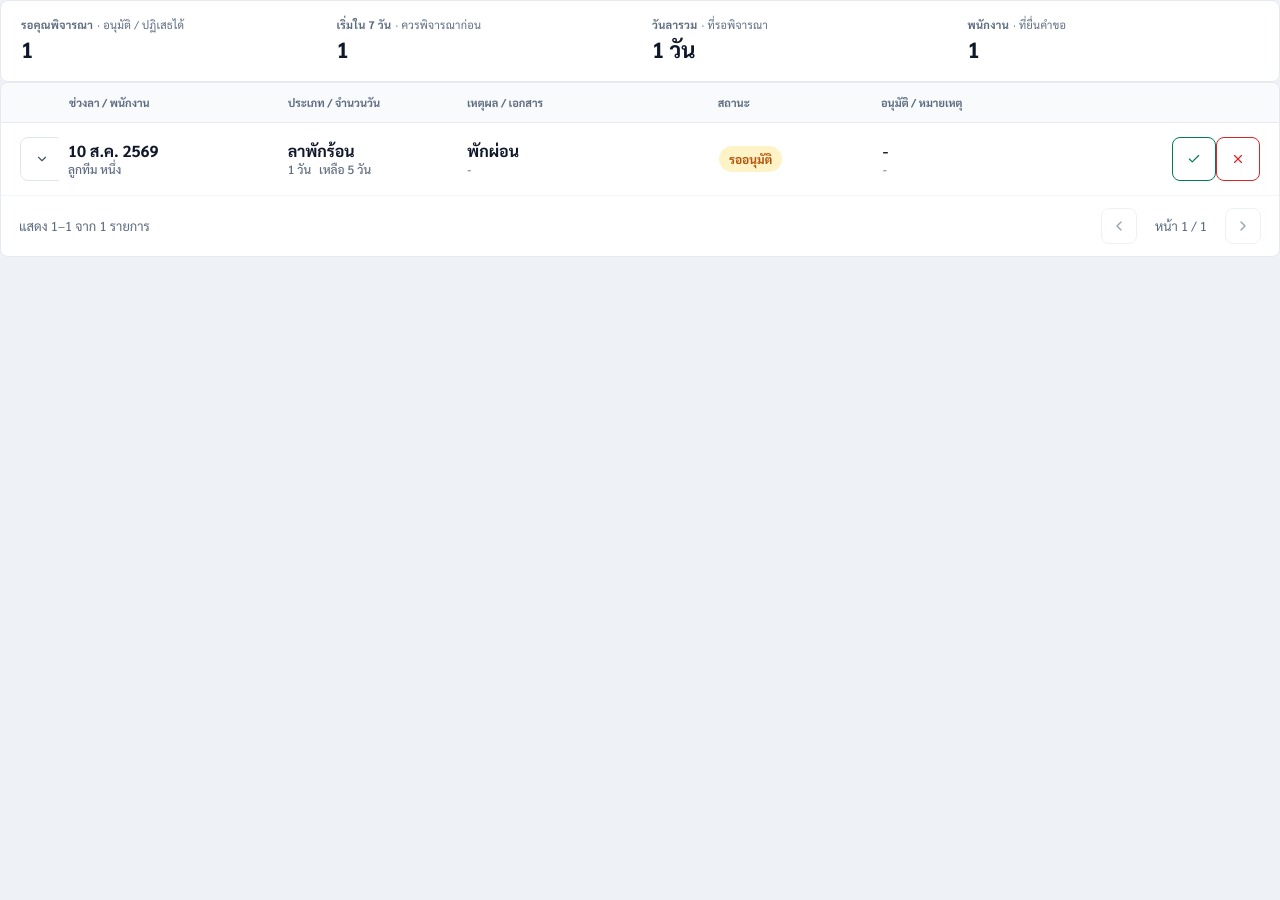
Test: ReviewQueueTab › Phase A4: 409 already-decided › an approve 409 replaces the transient toast with an inline, force-expanded explanation and refetches the row
expect the text "พักผ่อน" is shown: met, box [467,140,519,161]
Click the button named "อนุมัติ": coordinates (1194, 159) [1172,137,1216,181]
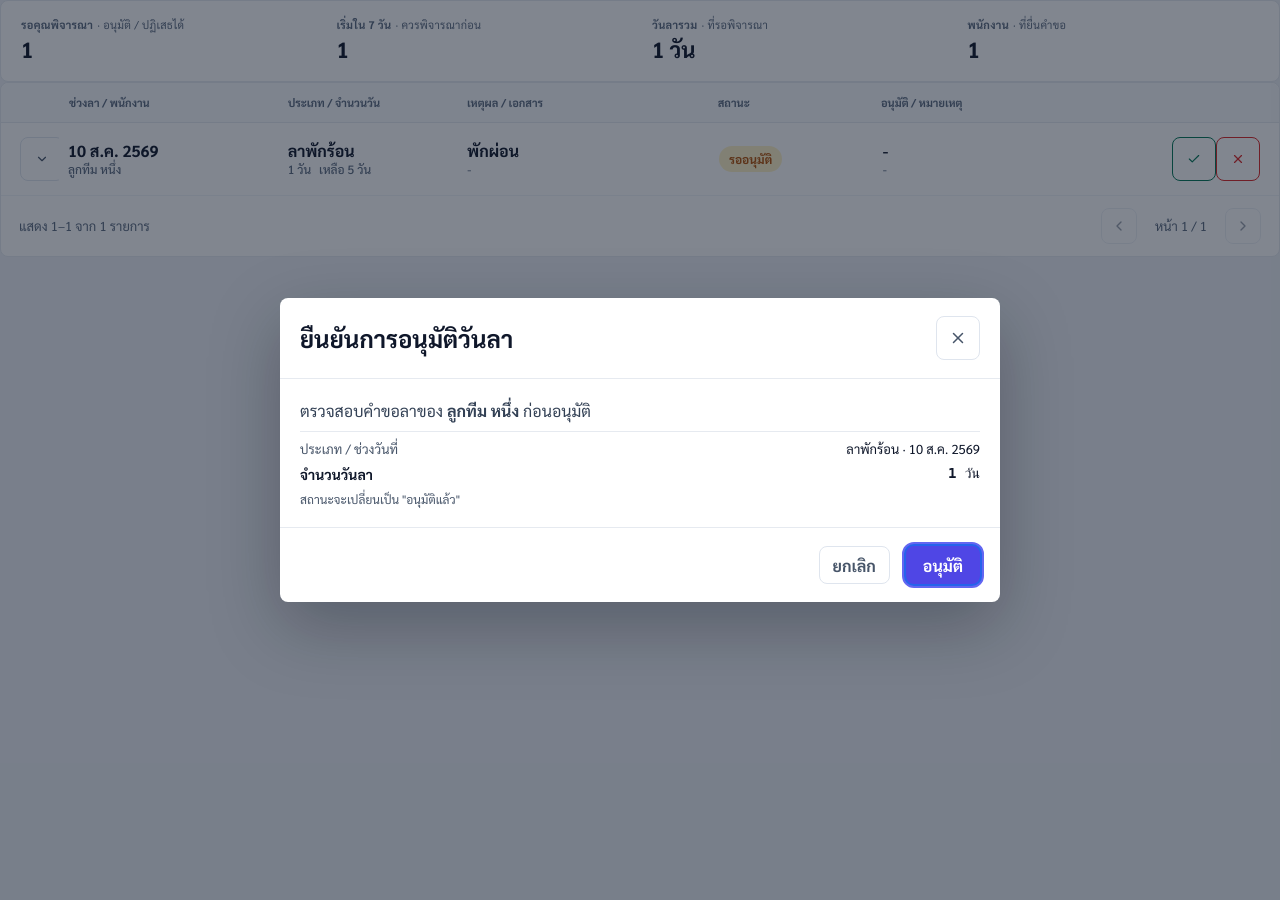
Click the button "อนุมัติ": coordinates (943, 565) [906,546,980,584]
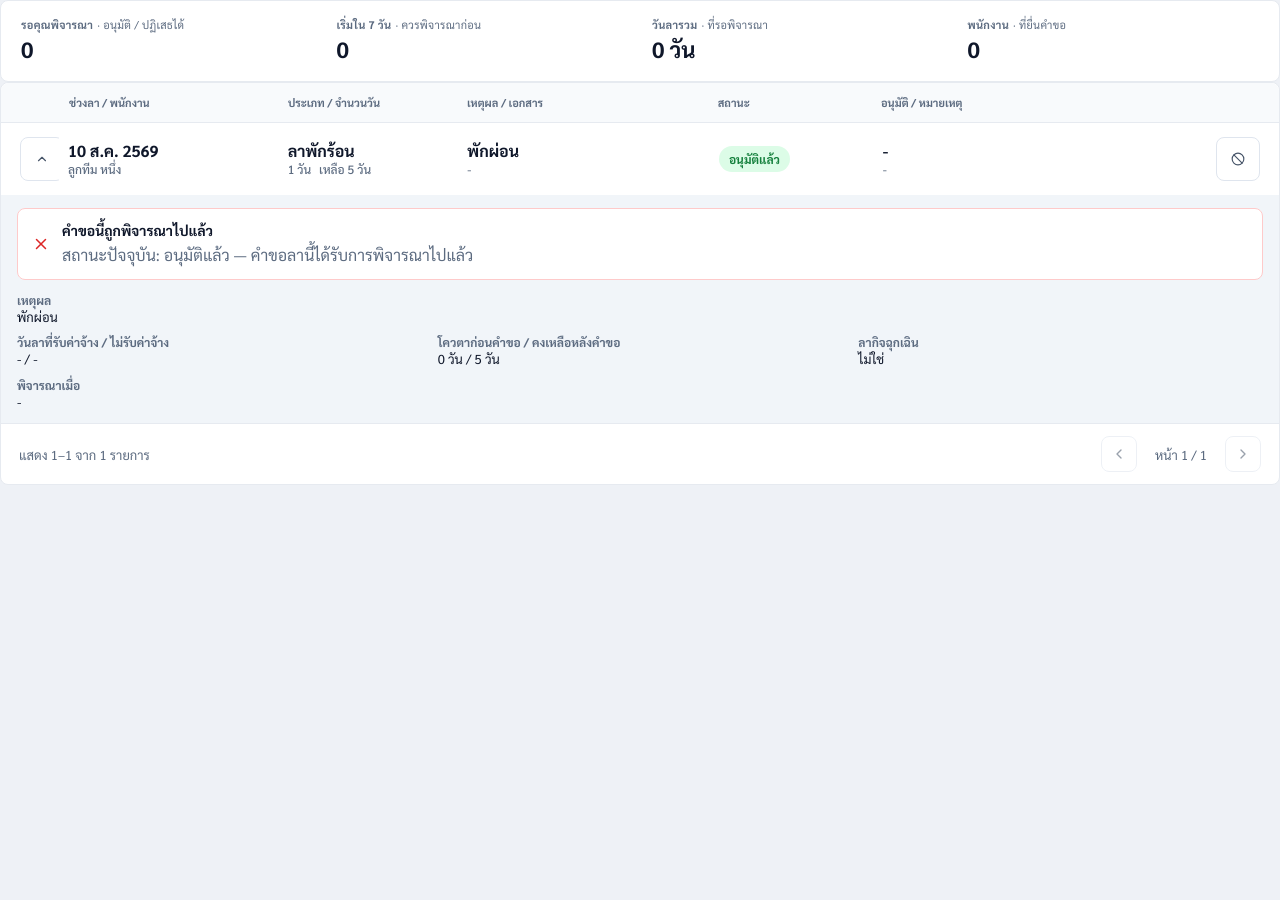
expect the text "คำขอนี้ถูกพิจารณาไปแล้ว" is shown: met, box [62,221,213,239]
expect the text "สถานะปัจจุบัน: อนุมัติแล้ว — คำขอลานี้ได้รับการพิจารณาไปแล้ว" is shown: met, box [62,244,473,265]
